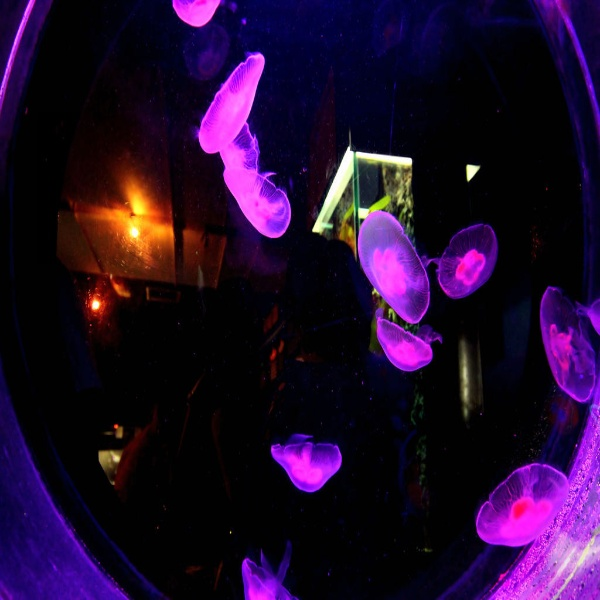Jellyfish: (355, 209, 430, 325), (476, 459, 565, 549), (192, 47, 264, 154), (537, 286, 599, 407), (216, 156, 292, 241), (435, 225, 499, 302), (270, 433, 344, 496), (373, 313, 433, 372), (239, 543, 299, 599), (172, 0, 221, 25)
